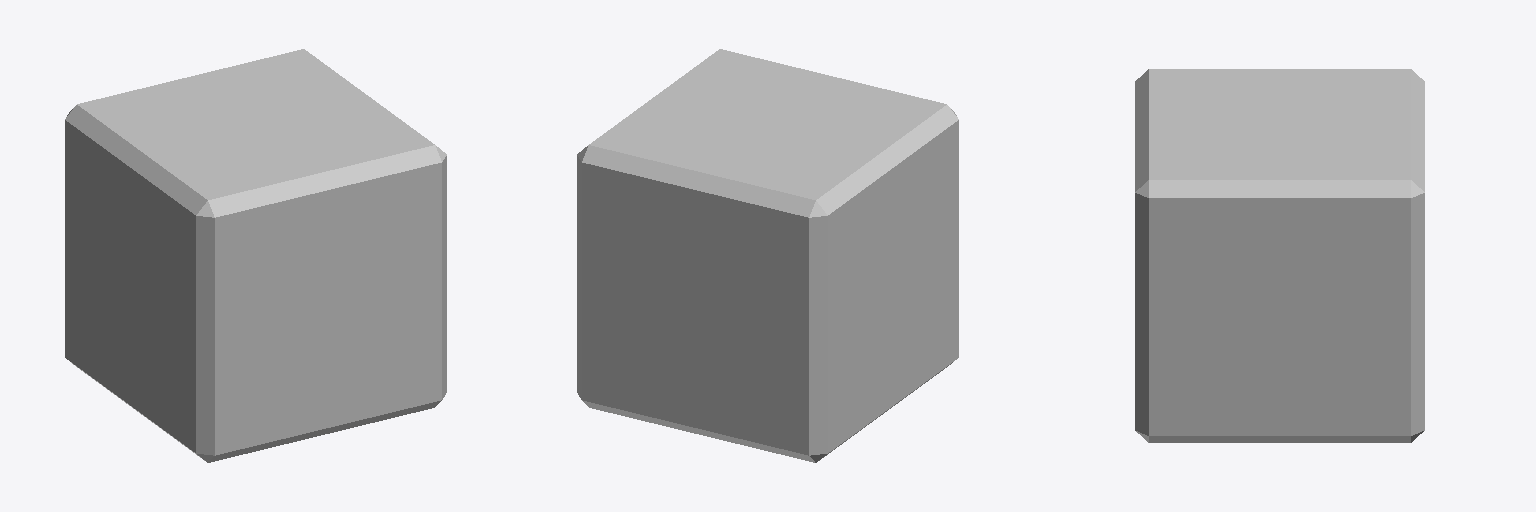
Rendered from rounded.obj.
3 views of the same model, side by side, from view 1: azimuth 30°, elevation 25°; view 2: azimuth 150°, elevation 25°; view 3: azimuth 270°, elevation 25° (orthographic).
Visible parts, largest first — view 1: rounded; view 2: rounded; view 3: rounded.
Boxes of the visible parts, <box> form: rounded: <box>65,49,446,462</box>; rounded: <box>577,49,958,462</box>; rounded: <box>1135,69,1424,442</box>.
Size of the model in its own units: 26.7 by 26.7 by 26.7.